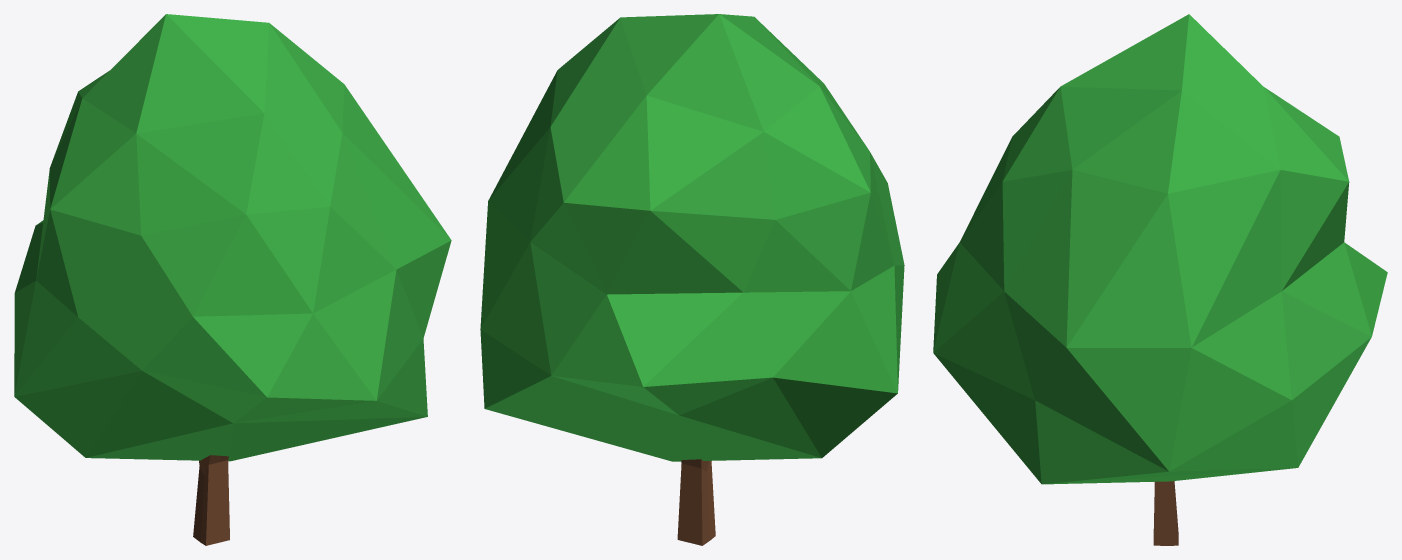
Rendered from Tree_57_Green.fbx.
3 renders of one model, left to right at view 1: azimuth 30°, elevation 25°; view 2: azimuth 150°, elevation 25°; view 3: azimuth 270°, elevation 25°, orthographic. The views are drawn at different scales.
Visible parts, largest first — view 1: Tree_57_Green_Part_1, Tree_57_Green_Part_2; view 2: Tree_57_Green_Part_1, Tree_57_Green_Part_2; view 3: Tree_57_Green_Part_1, Tree_57_Green_Part_2.
Part boxes in pixels (x1=…): Tree_57_Green_Part_1: x1=14, y1=14, x2=451, y2=461; Tree_57_Green_Part_2: x1=193, y1=455, x2=229, y2=545; Tree_57_Green_Part_1: x1=480, y1=14, x2=904, y2=461; Tree_57_Green_Part_2: x1=677, y1=459, x2=715, y2=545; Tree_57_Green_Part_1: x1=933, y1=14, x2=1387, y2=484; Tree_57_Green_Part_2: x1=1153, y1=481, x2=1178, y2=545.
Size of the model in its own units: 643 by 801 by 647.
